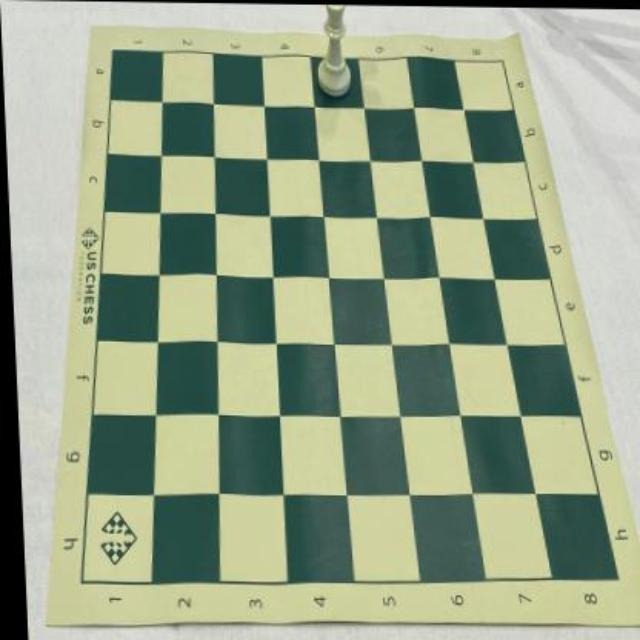white-king: (314, 4, 352, 97)
